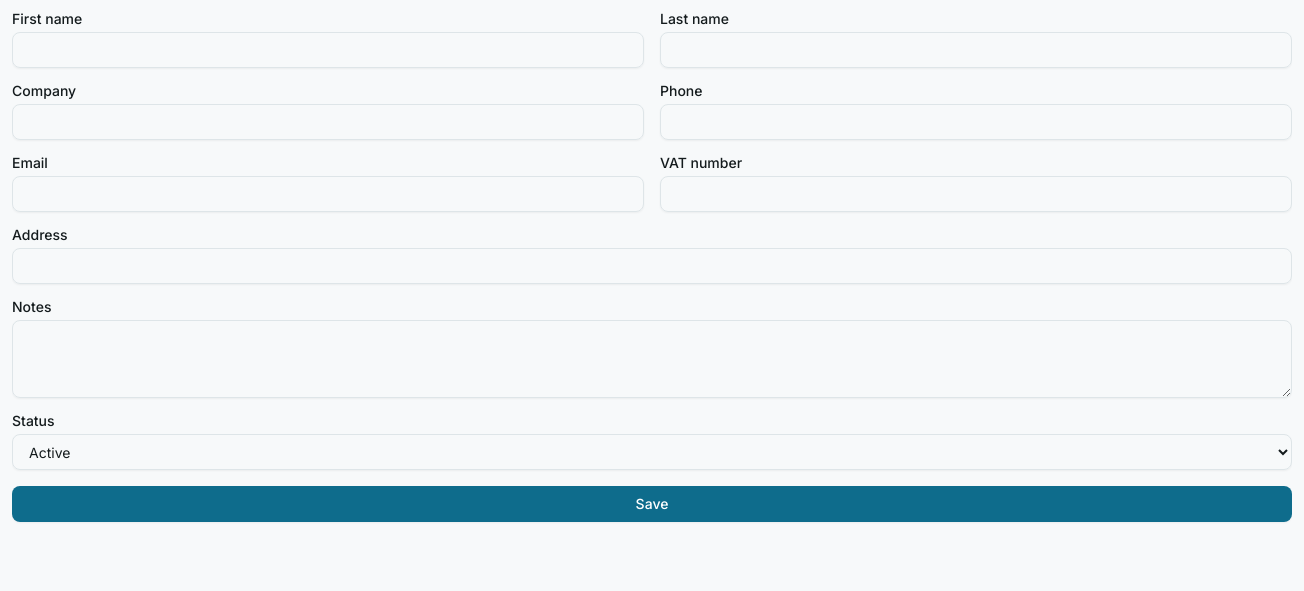
Test: CustomerForm › shows validation errors for missing required fields and an invalid email
Type "not-an-email" into the field labelled "Email". click: (328, 194)
box: [12,176,644,212]
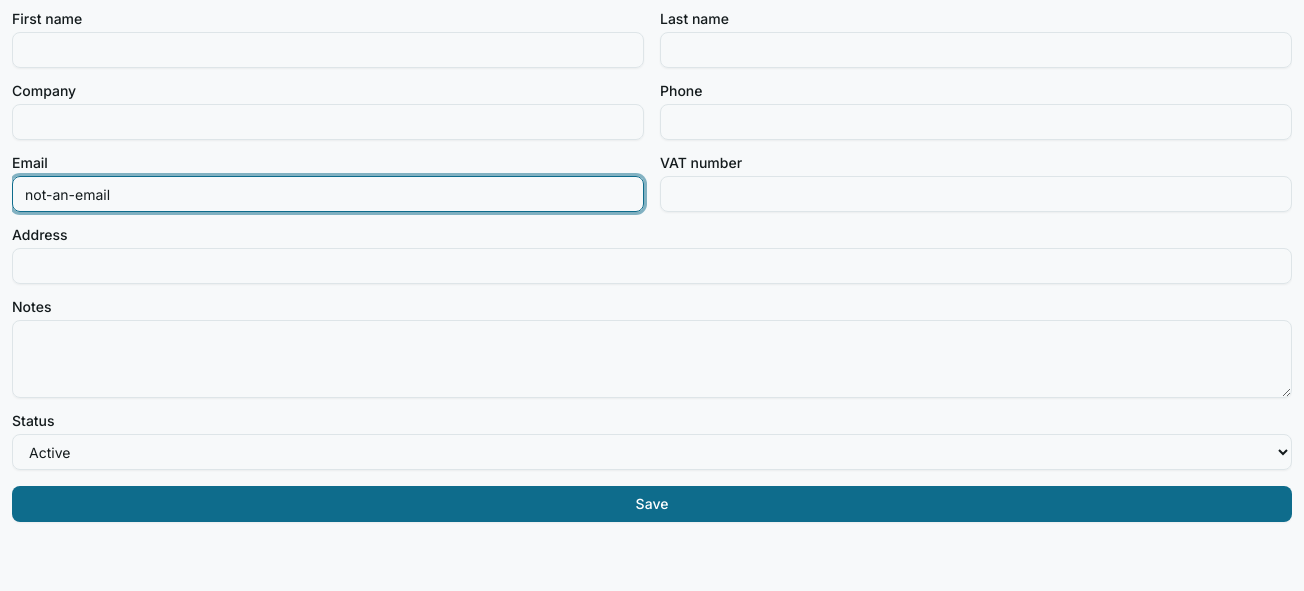
Click the button "Save". click: (652, 504)
box: [12,486,1292,522]
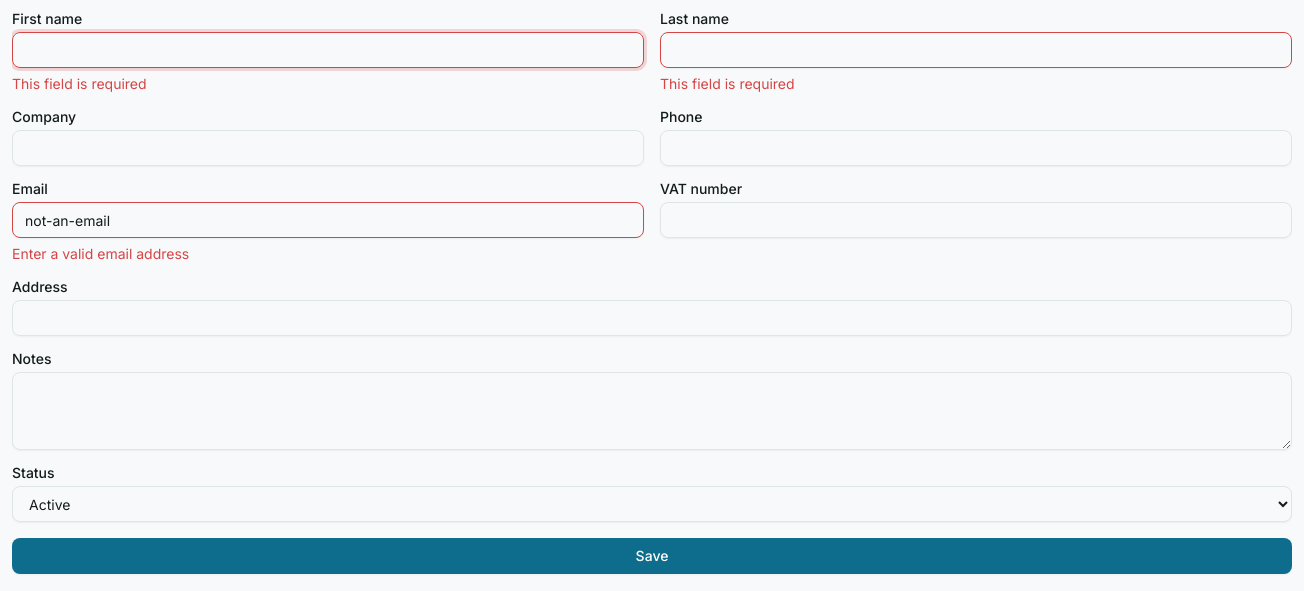
Expected: the text "This field is required" is shown 2 times, [12,75,147,92]; [660,75,795,92]
Expected: the text "Enter a valid email address" is shown, [12,245,189,262]
